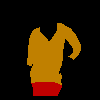gonna: (30, 82, 62, 96)
maglia: (26, 22, 81, 86)
